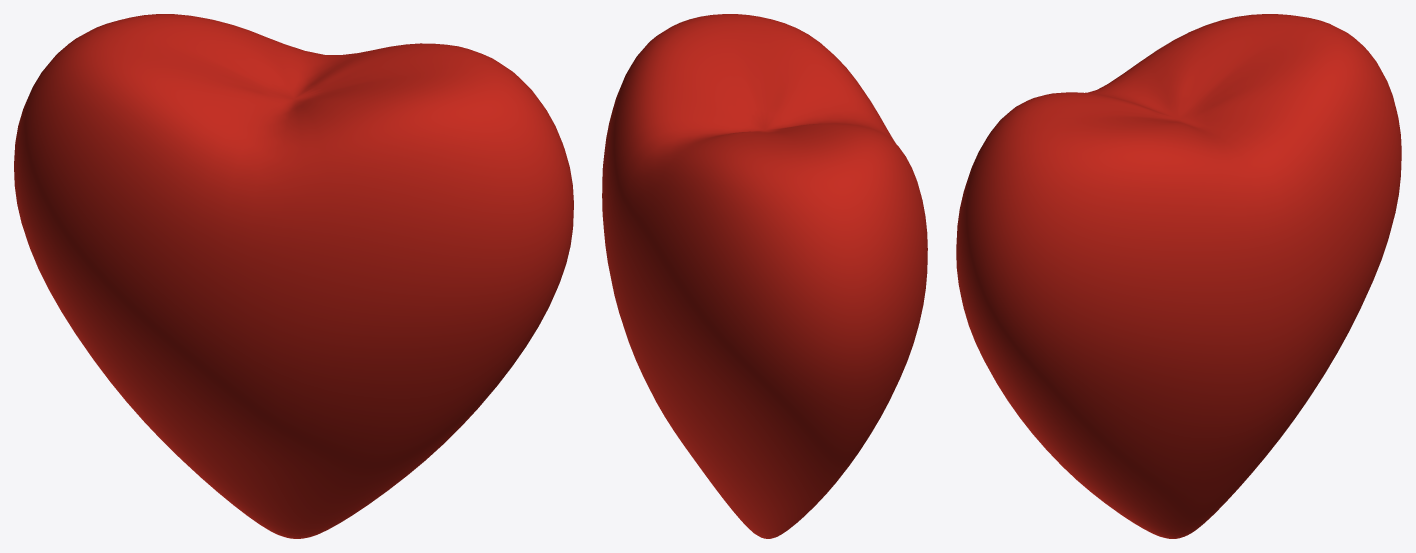
The model's file is Cupid Heart.FBX.
3 views of the same model, side by side, from view 1: azimuth 30°, elevation 25°; view 2: azimuth 150°, elevation 25°; view 3: azimuth 270°, elevation 25° (orthographic). The views are drawn at different scales.
Visible parts, largest first — view 1: Line003; view 2: Line003; view 3: Line003.
Part boxes in pixels (x1,y1,x2,y2): Line003: (14,14,573,538); Line003: (602,14,927,538); Line003: (956,14,1401,538).
Size of the model in its own units: 121 by 138 by 121.
